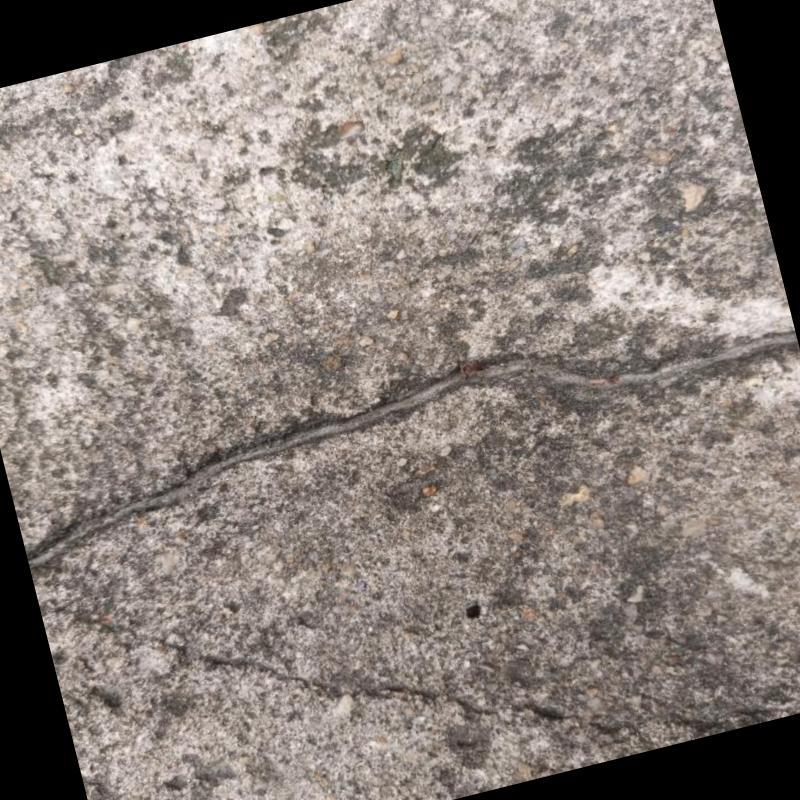pothole: (28, 331, 798, 567)
